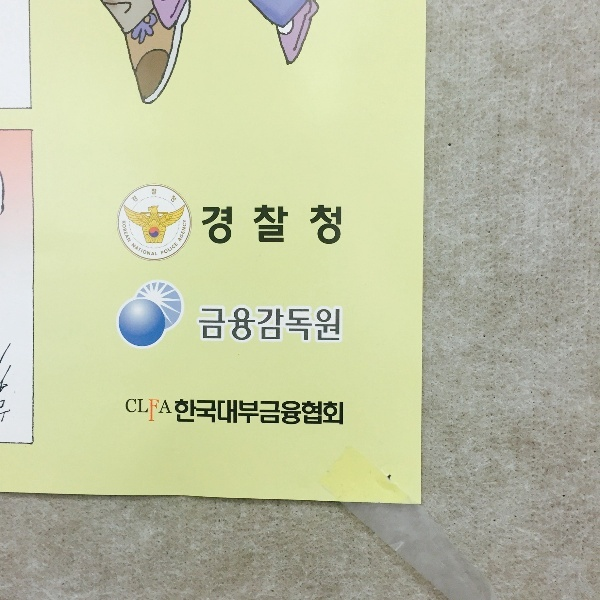text: (209, 300, 224, 351), (225, 300, 240, 351), (241, 300, 256, 351), (257, 300, 272, 351), (273, 300, 288, 351), (289, 300, 304, 351), (305, 300, 320, 351), (321, 300, 336, 351), (194, 300, 208, 351), (209, 207, 224, 250), (225, 207, 240, 250), (241, 207, 256, 250), (257, 207, 272, 250), (273, 207, 288, 250), (289, 207, 304, 250), (305, 207, 320, 250), (321, 207, 336, 250), (177, 393, 192, 434), (193, 393, 208, 434), (209, 393, 224, 434), (225, 393, 240, 434), (241, 393, 256, 434), (257, 393, 272, 434), (273, 393, 288, 434), (289, 393, 304, 434), (305, 393, 320, 434), (321, 393, 336, 434), (129, 391, 144, 430), (145, 391, 160, 430), (337, 300, 347, 351), (161, 391, 173, 430), (337, 393, 348, 434), (337, 207, 344, 250), (129, 187, 144, 205), (145, 187, 160, 205), (161, 187, 176, 205), (161, 241, 176, 258), (183, 218, 192, 246), (203, 207, 208, 250), (123, 391, 128, 430), (145, 242, 158, 257), (172, 393, 176, 434), (134, 242, 144, 257), (129, 220, 133, 244), (177, 187, 180, 205), (177, 241, 180, 258), (127, 220, 128, 244)
